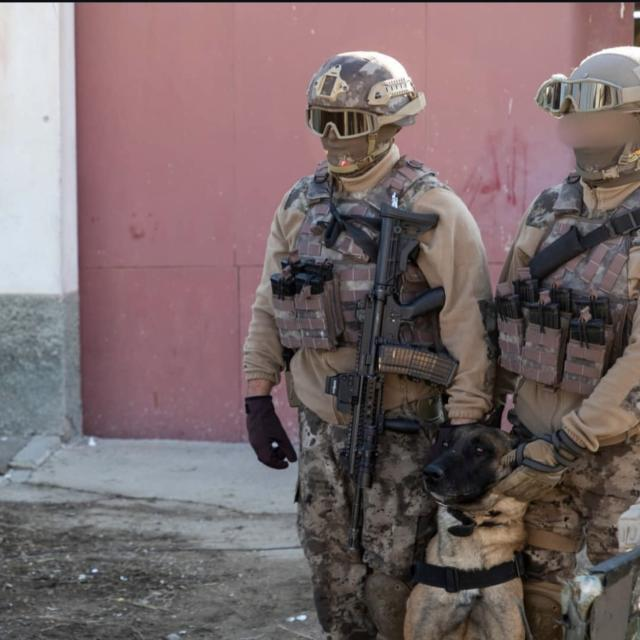poh_personel: (246, 50, 497, 640), (500, 44, 640, 640)
